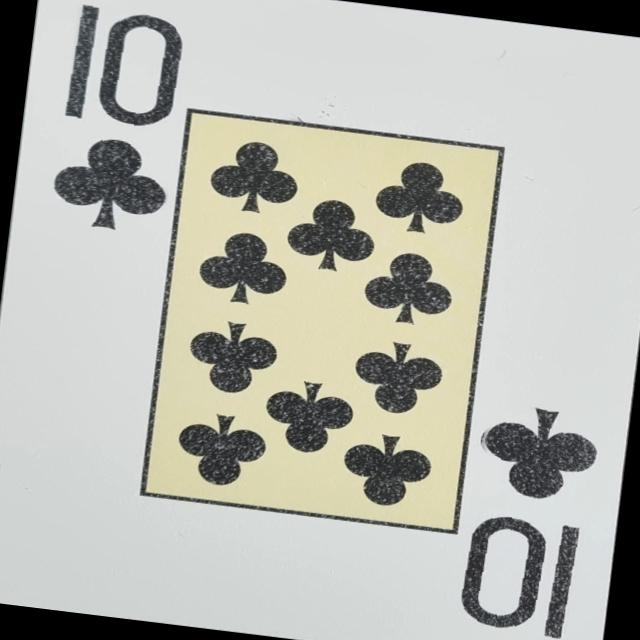Tc: (39, 0, 197, 249), (451, 393, 608, 640)
